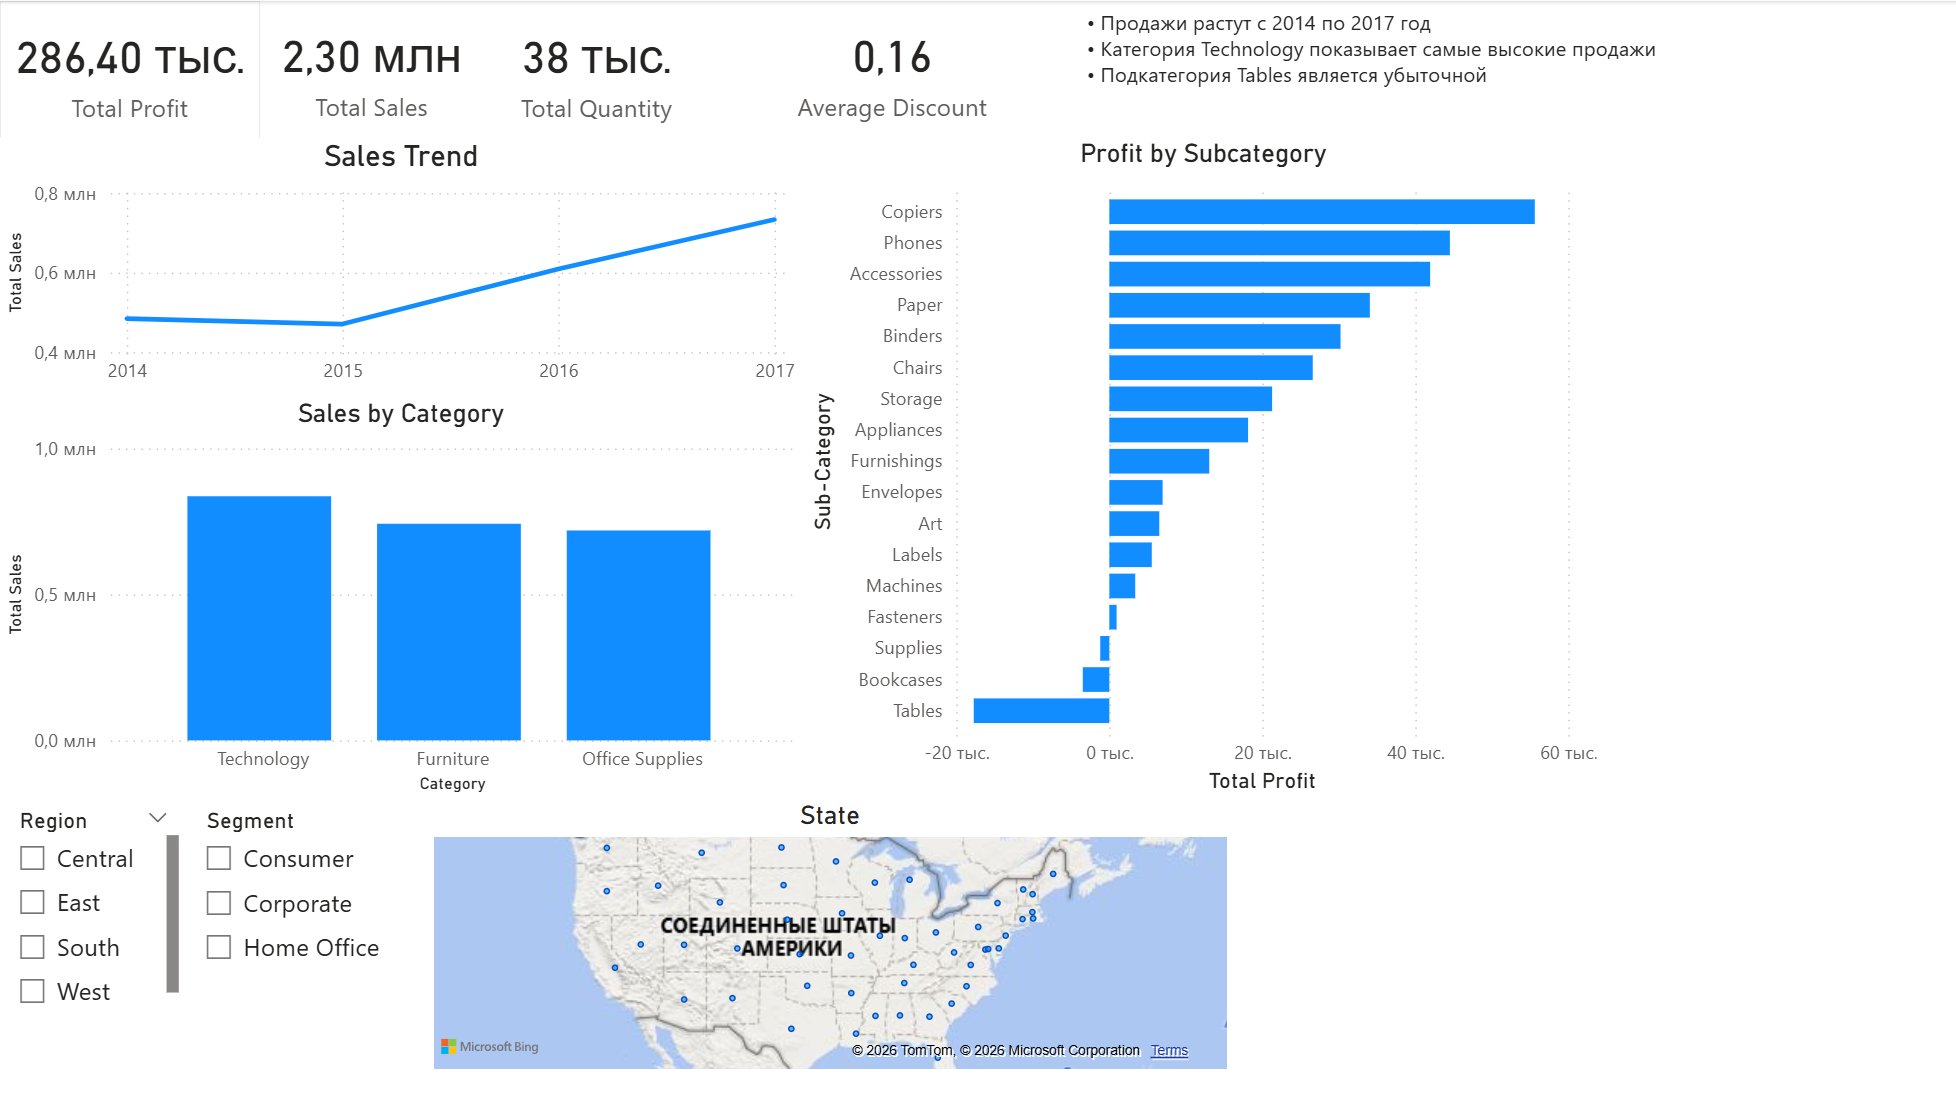

What the dashboard file says about the page in this screenshot:
{"tool":"powerbi","page":{"name":"Страница 1","canvas":[1280,720],"ordinal":0},"visuals":[{"type":"card","fields":{"Values":["Sum(Sample - Superstore.Sales)"]},"box":[170.1,0,145.9,89.7],"z":0},{"type":"card","fields":{"Values":["Sum(Sample - Superstore.Profit)"]},"box":[0,0,169.9,91.3],"z":1000},{"type":"card","fields":{"Values":["Sum(Sample - Superstore.Quantity)"]},"box":[315.8,0,148.6,90.6],"z":2000},{"type":"card","fields":{"Values":["Avg(Sample - Superstore.Discount)"]},"box":[461.8,0,243.9,90],"z":3000},{"type":"lineChart","title":"Sales Trend","fields":{"Category":["Sample - Superstore.Order Date.Изменение.Иерархия дат.Год","Sample - Superstore.Order Date.Изменение.Иерархия дат.Месяц"],"Y":["Sum(Sample - Superstore.Sales)"]},"box":[0,89.7,524.8,170.1],"z":4000},{"type":"clusteredColumnChart","title":"Sales by Category","fields":{"Category":["Sample - Superstore.Category"],"Y":["Sum(Sample - Superstore.Sales)"]},"box":[0,259.8,524.8,263.1],"z":5000},{"type":"clusteredBarChart","title":"Profit by Subcategory","fields":{"Y":["Sum(Sample - Superstore.Profit)"],"Category":["Sample - Superstore.Sub-Category"]},"box":[524.8,89.7,525.5,433.2],"z":6000},{"type":"slicer","fields":{"Values":["Sample - Superstore.Region"]},"box":[0,522.9,122.4,142.7],"z":7000},{"type":"map","fields":{"Category":["Sample - Superstore.State"]},"box":[278.8,522.9,528.8,180.6],"z":8000},{"type":"slicer","fields":{"Values":["Sample - Superstore.Segment"]},"box":[122.4,522.9,156.4,142.7],"z":8001},{"type":"textbox","box":[706.1,0,531.4,89.7],"z":8002}]}

Visuals, with their boxes in screenshot pixels (x1, y1, x2, y2), scaled from the page's 1280x720 canvas onto the 1956x1101 screenshot:
card - Sum(Sample - Superstore.Sales): x1=260, y1=0, x2=483, y2=137
card - Sum(Sample - Superstore.Profit): x1=0, y1=0, x2=260, y2=140
card - Sum(Sample - Superstore.Quantity): x1=483, y1=0, x2=710, y2=139
card - Avg(Sample - Superstore.Discount): x1=706, y1=0, x2=1078, y2=138
"Sales Trend" lineChart: x1=0, y1=137, x2=802, y2=397
"Sales by Category" clusteredColumnChart: x1=0, y1=397, x2=802, y2=800
"Profit by Subcategory" clusteredBarChart: x1=802, y1=137, x2=1605, y2=800
slicer - Sample - Superstore.Region: x1=0, y1=800, x2=187, y2=1018
map - Sample - Superstore.State: x1=426, y1=800, x2=1234, y2=1076
slicer - Sample - Superstore.Segment: x1=187, y1=800, x2=426, y2=1018
textbox: x1=1079, y1=0, x2=1891, y2=137
